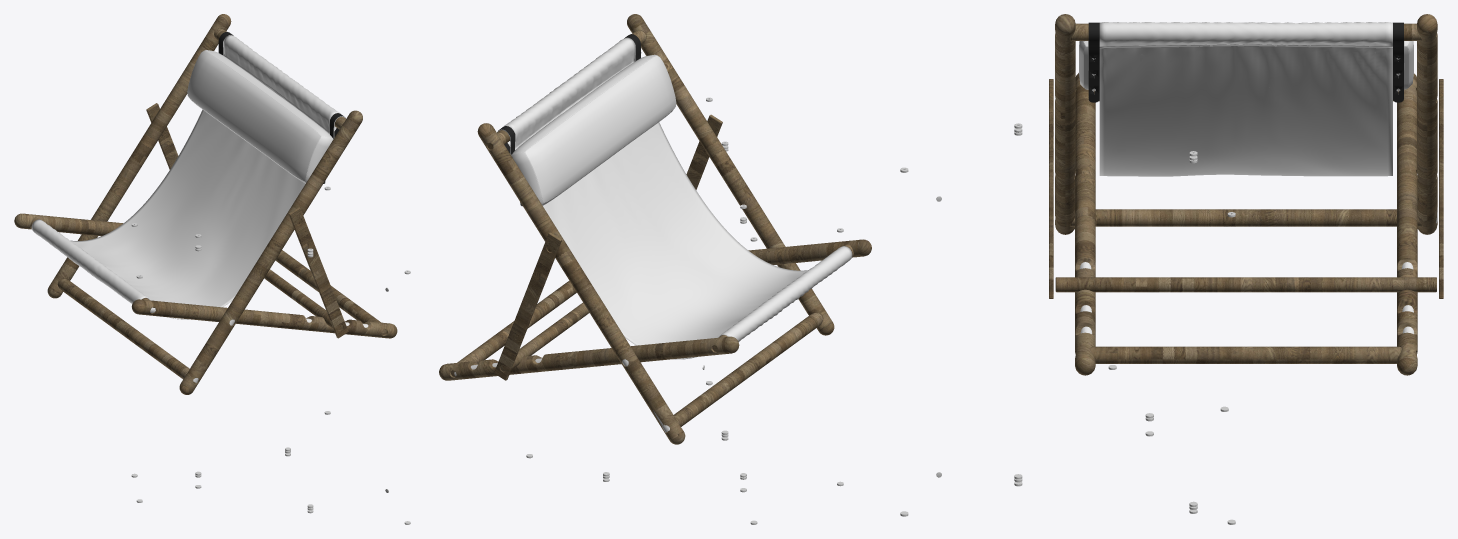
Rendered from Sun-lounger_colliders.fbx.
The picture shows the model from 3 angles, left to right: view 1: azimuth 30°, elevation 25°; view 2: azimuth 150°, elevation 25°; view 3: azimuth 270°, elevation 25°; orthographic projection. The views are drawn at different scales.
Parts seen in each view (by area): view 1: Sun lounger_fabric, Sun lounger, Sun lounger_pillow; view 2: Sun lounger_fabric, Sun lounger, Sun lounger_pillow; view 3: Sun lounger_fabric, Sun lounger, Sun lounger_pillow.
Part boxes in pixels (box(x1,y1,x2,y2)): Sun lounger_fabric: box(31, 35, 339, 319); Sun lounger: box(14, 14, 397, 394); Sun lounger_pillow: box(187, 50, 333, 183); Sun lounger_fabric: box(504, 37, 852, 359); Sun lounger: box(439, 14, 871, 444); Sun lounger_pillow: box(511, 54, 676, 205); Sun lounger_fabric: box(1099, 22, 1392, 176); Sun lounger: box(1049, 14, 1443, 375); Sun lounger_pillow: box(1079, 41, 1413, 90).
Bounding box in the file's own units: 1.83 × 2.47 × 2.38.
